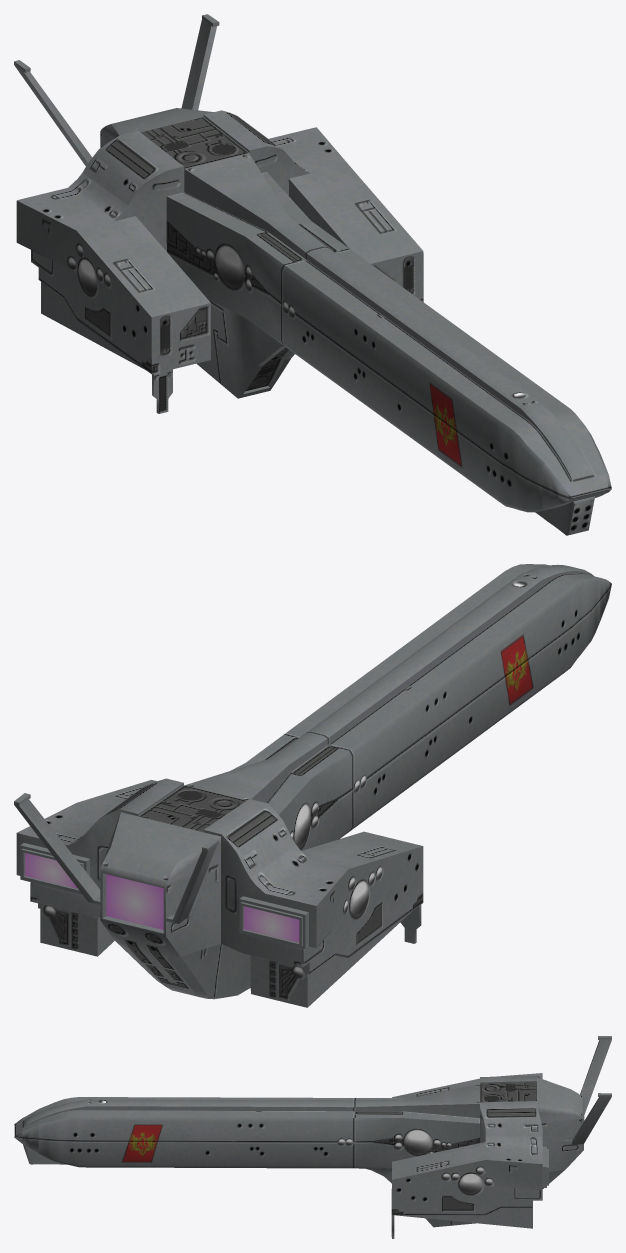
The model's file is GE_CommandShip_Beowulf.obj.
3 renders of one model, top to bottom at view 1: azimuth 30°, elevation 25°; view 2: azimuth 150°, elevation 25°; view 3: azimuth 270°, elevation 25°, orthographic. The views are drawn at different scales.
Visible parts, largest first — view 1: GE_CommandShip_Beowulf; view 2: GE_CommandShip_Beowulf; view 3: GE_CommandShip_Beowulf.
Part boxes in pixels (box(x1,y1,x2,y2)): GE_CommandShip_Beowulf: box(14, 14, 611, 535); GE_CommandShip_Beowulf: box(14, 564, 611, 1007); GE_CommandShip_Beowulf: box(14, 1036, 611, 1238).
Bounding box in the file's own units: 285 × 229 × 790.
